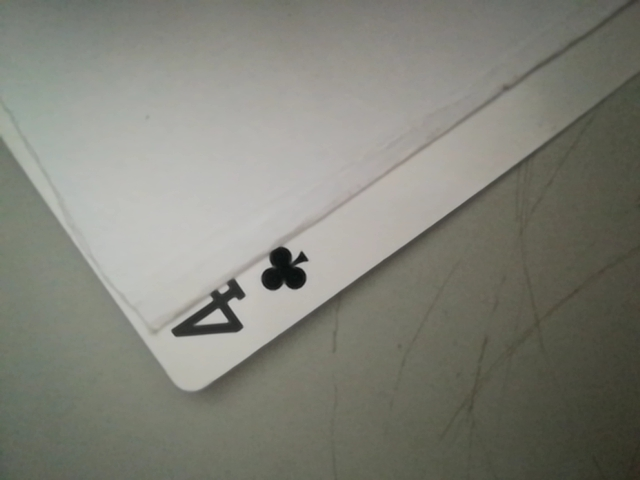mh 4: (154, 235, 327, 360)
